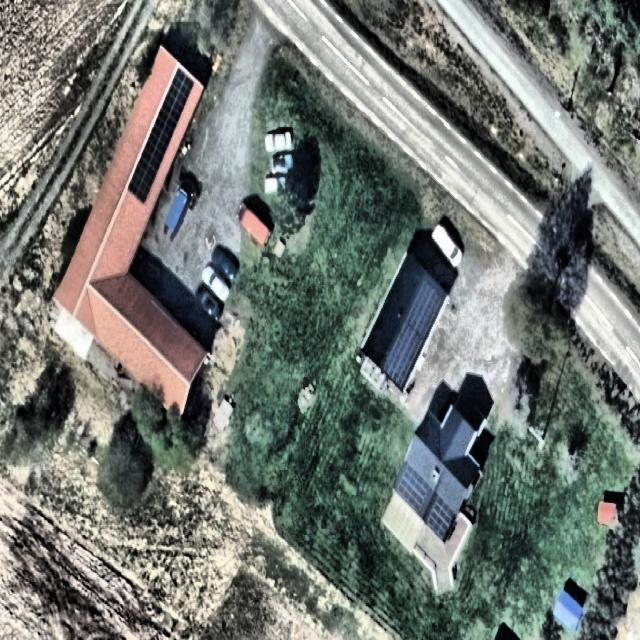roof_pv: (382, 322, 427, 385), (157, 68, 197, 130), (407, 278, 442, 337), (396, 460, 431, 515), (126, 156, 156, 212), (143, 114, 173, 167), (426, 494, 456, 542)
